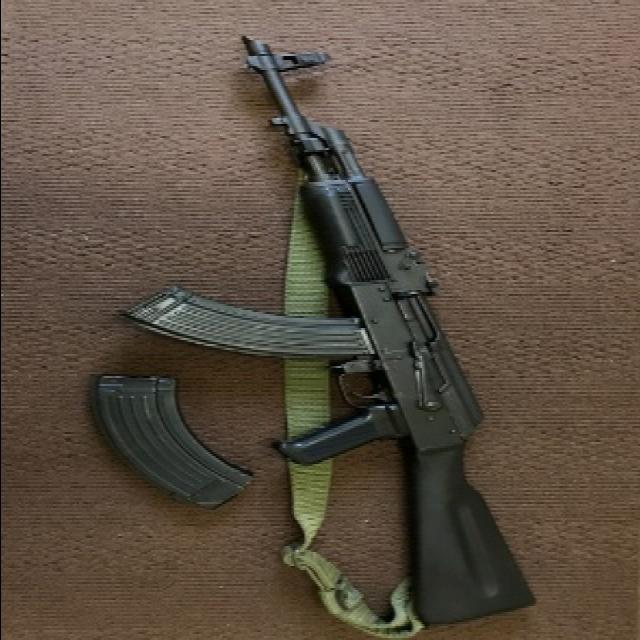rifle: (86, 29, 550, 633)
